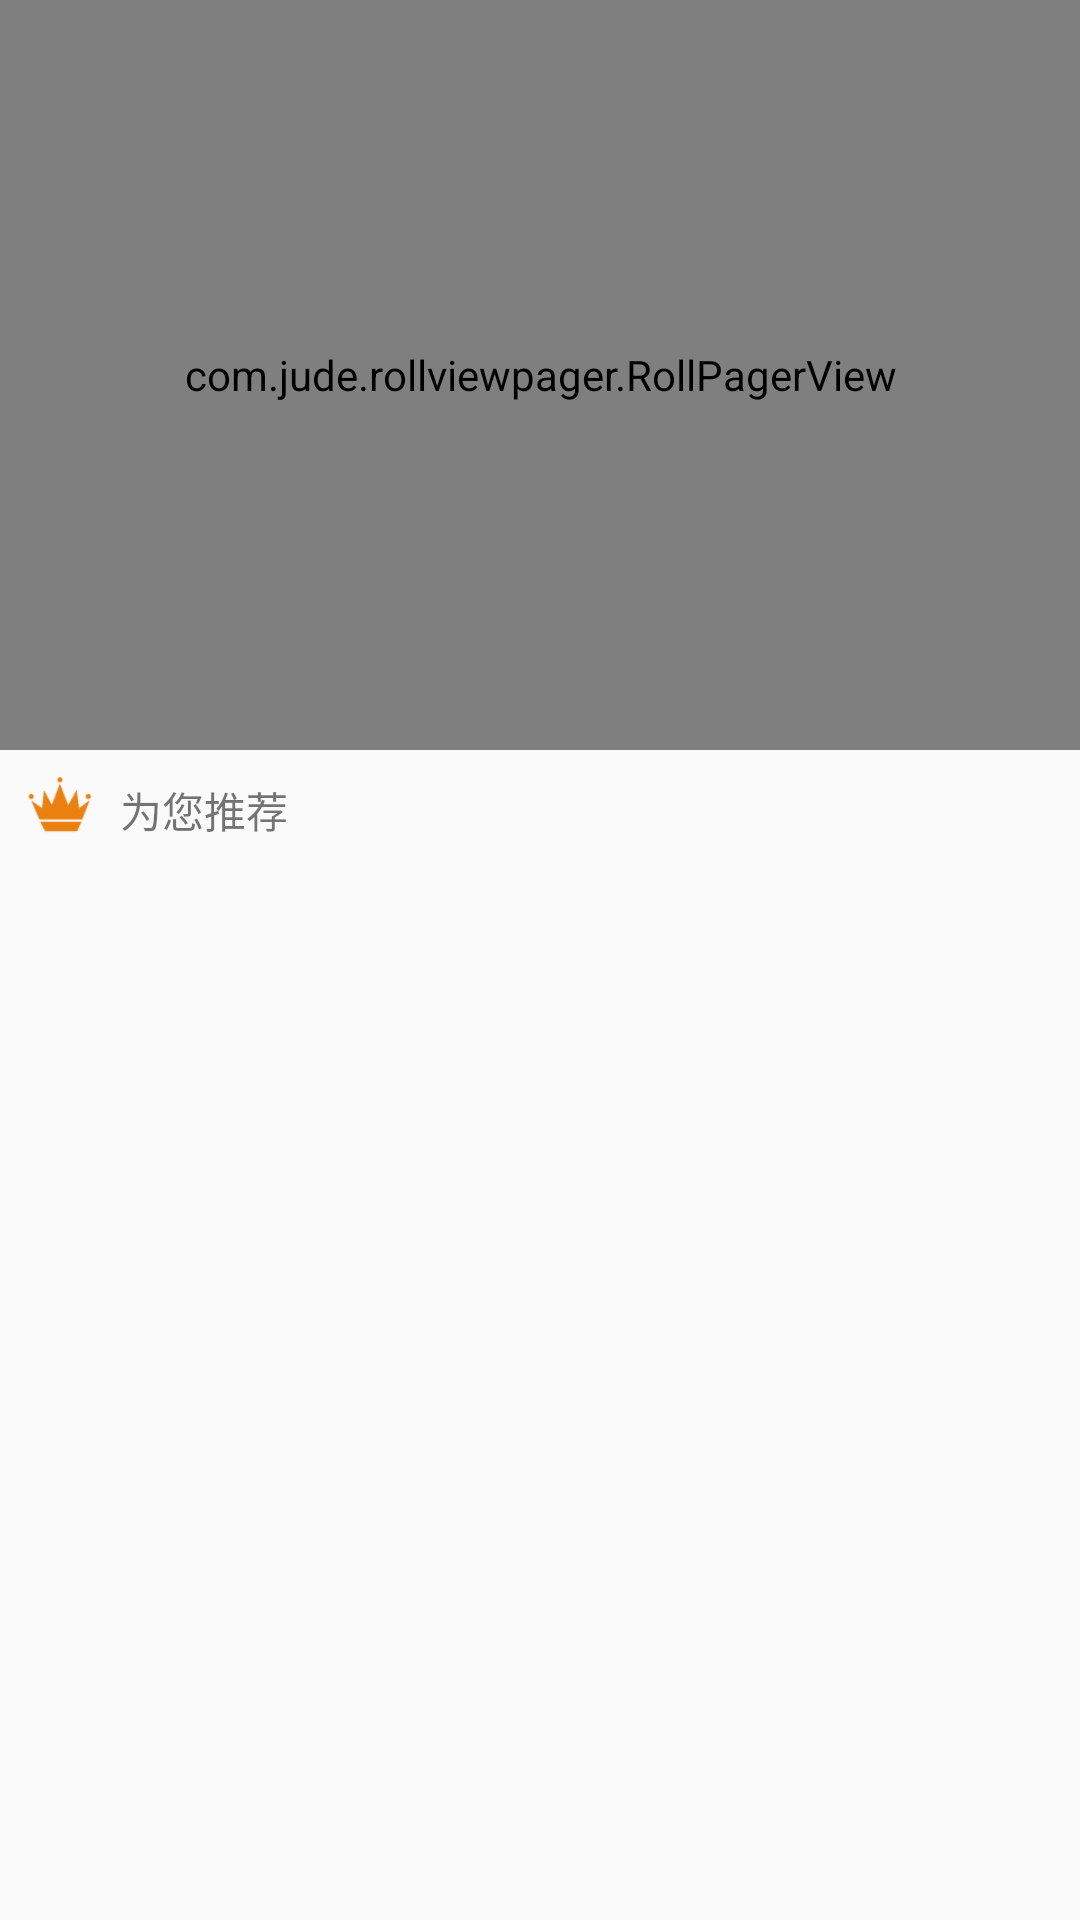

Icon bounding boxes for this 1080 x 1920 phone screenshot, format (left=x1, top=y1, right=x2, bottom=y2):
recommend: (left=28, top=777, right=92, bottom=832)
